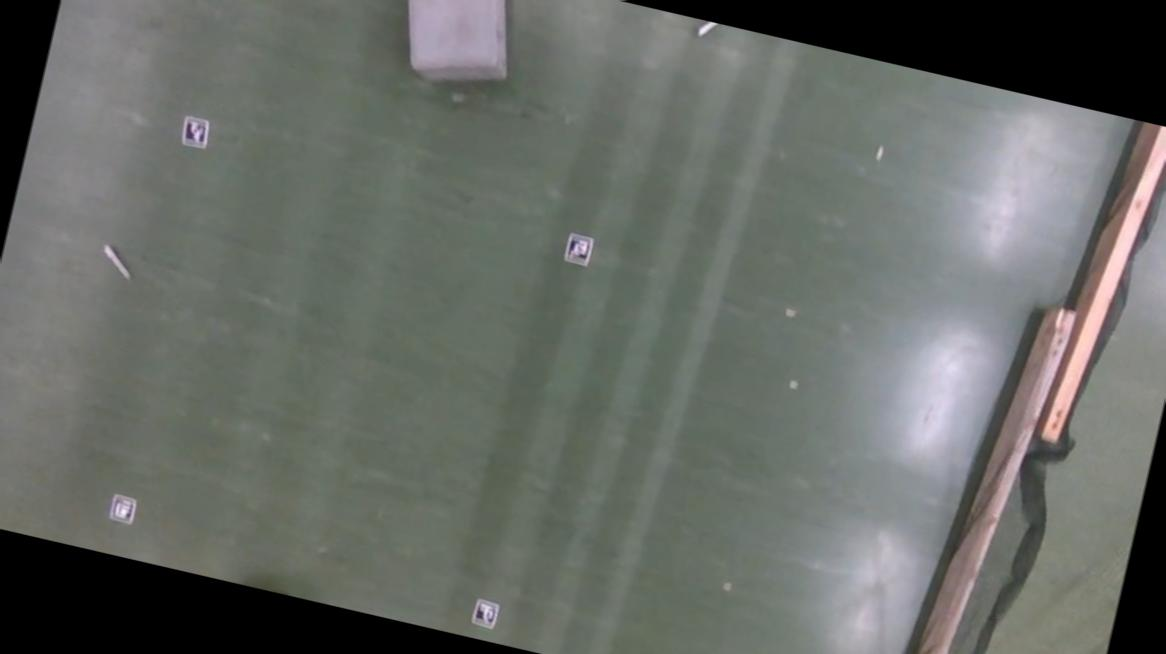probes: (97, 242, 136, 281), (695, 19, 728, 42)
rako: (375, 0, 526, 95)
